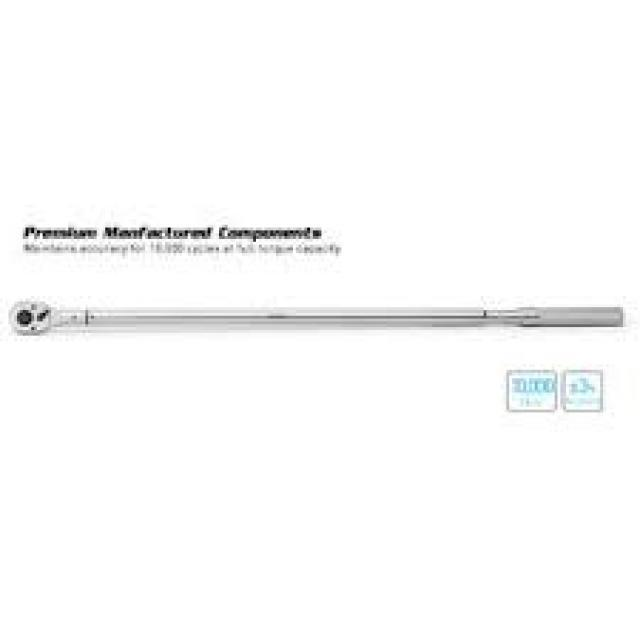wrench: (0, 282, 629, 348)
